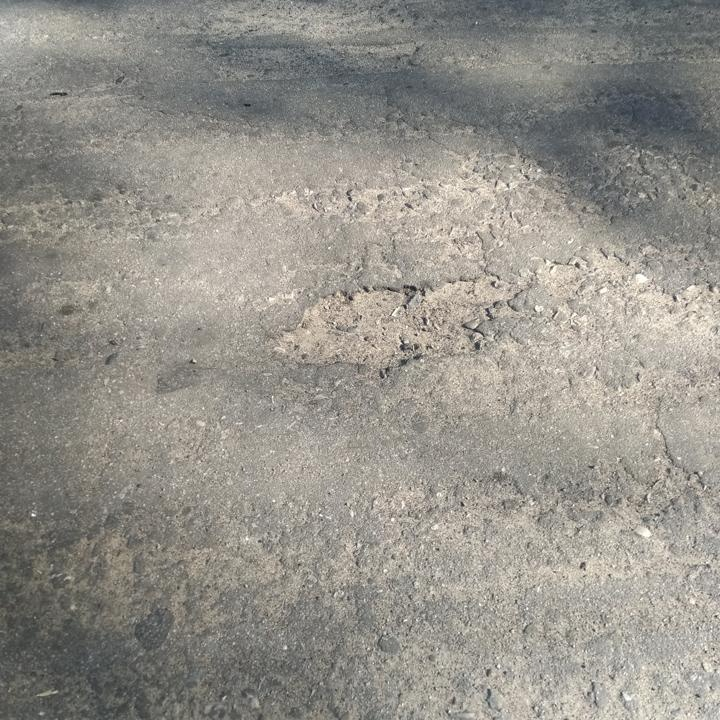pothole: (272, 270, 524, 377)
